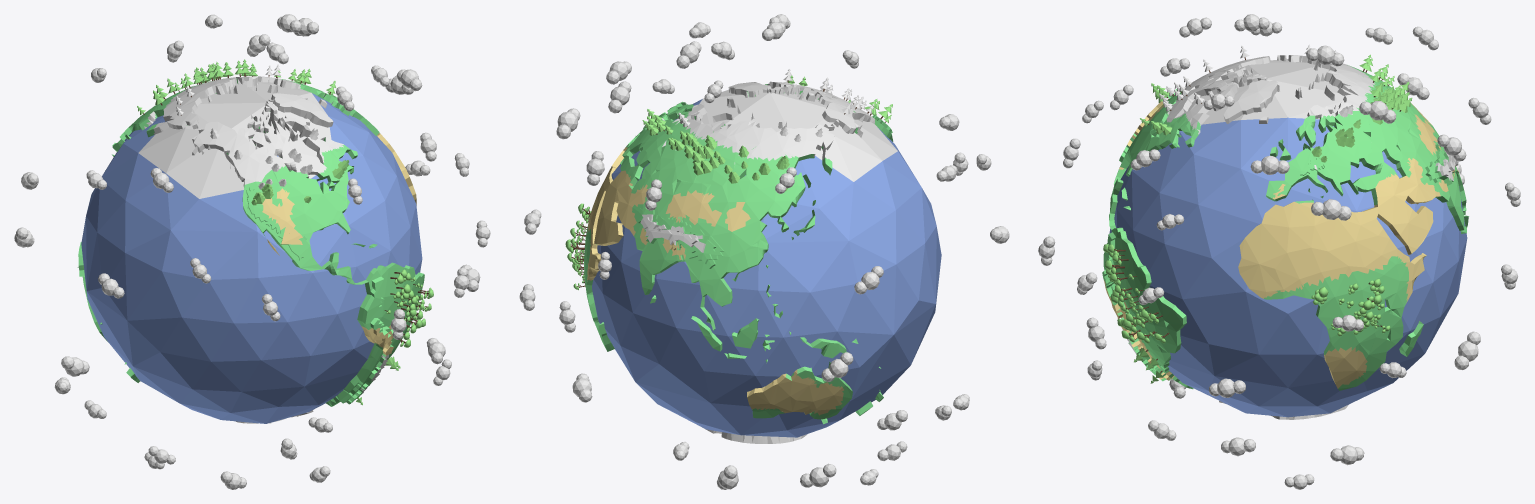
The model's file is LowPolyEarth2.glb.
3 renders of one model, left to right at view 1: azimuth 30°, elevation 25°; view 2: azimuth 150°, elevation 25°; view 3: azimuth 270°, elevation 25°, orthographic. The views are drawn at different scales.
Parts seen in each view (by area): view 1: Ocean, Earth, Clouds; view 2: Ocean, Earth, Clouds; view 3: Earth, Ocean, Clouds.
Boxes of the visible parts, x1,y1,x2,y2 form: Ocean: (81,79,422,423); Earth: (77,59,433,423); Clouds: (14,14,490,489); Ocean: (592,89,941,437); Earth: (565,69,893,443); Clouds: (519,14,1009,489); Earth: (1102,45,1468,419); Ocean: (1109,59,1467,417); Clouds: (1038,14,1520,489).
Bounding box in the file's own units: 2.73 × 2.78 × 2.76.
